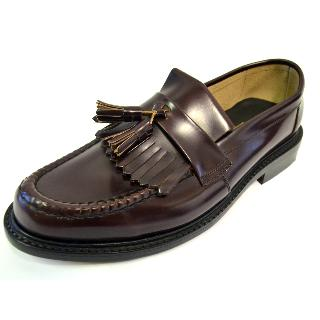loafers: (1, 57, 308, 266)
